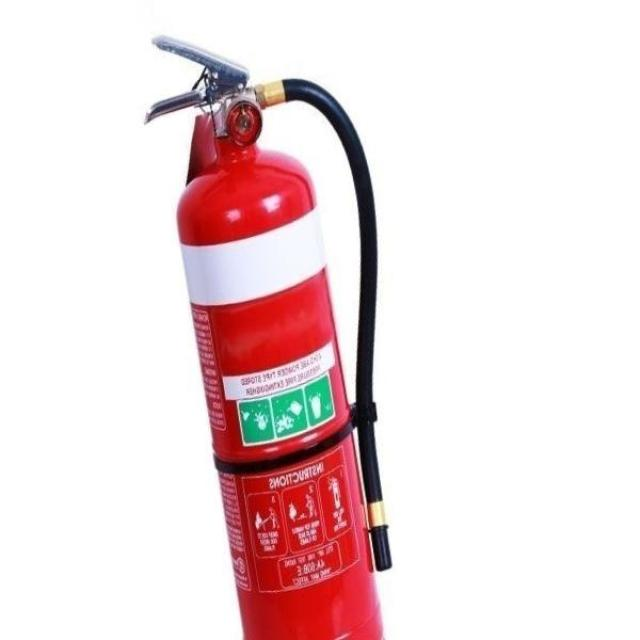fire_extinguisher: (137, 30, 401, 639)
